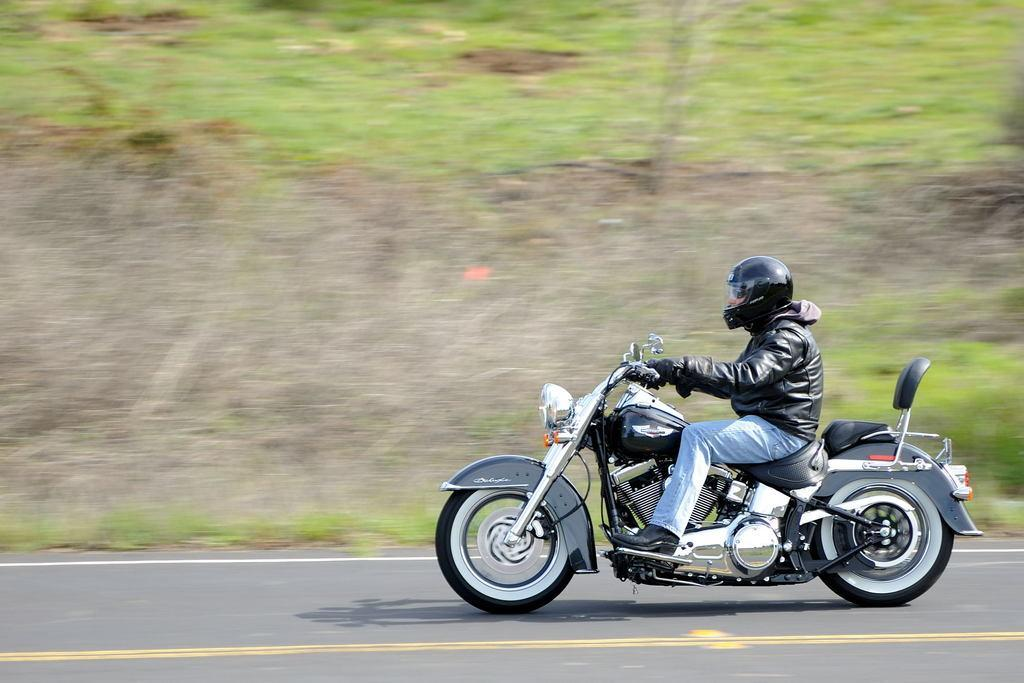helmet: (722, 254, 795, 331)
